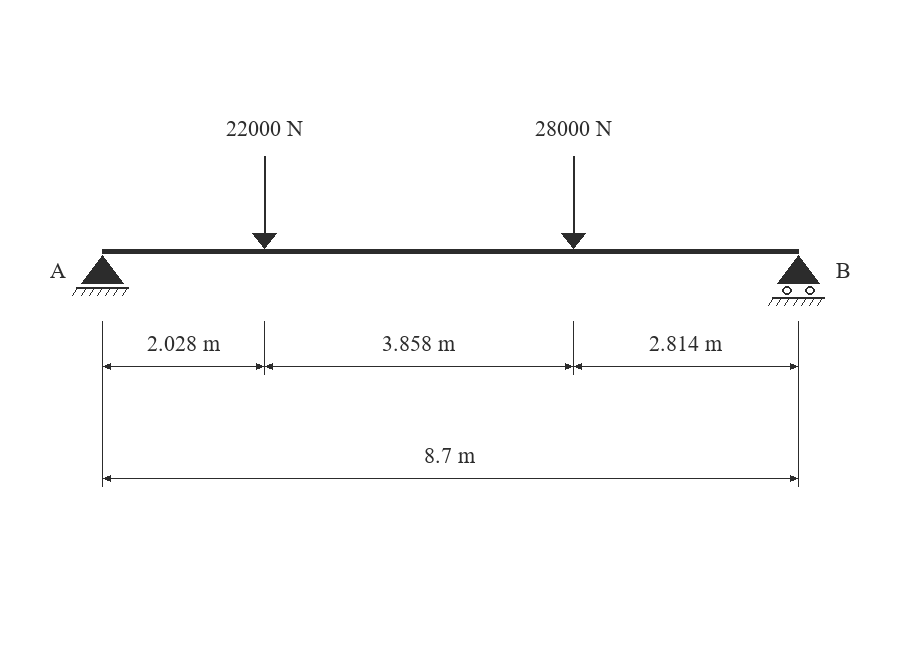pin_support: (72, 255, 129, 296)
point_load: (252, 156, 277, 249), (561, 156, 586, 249)
roller_support: (768, 255, 825, 306)
